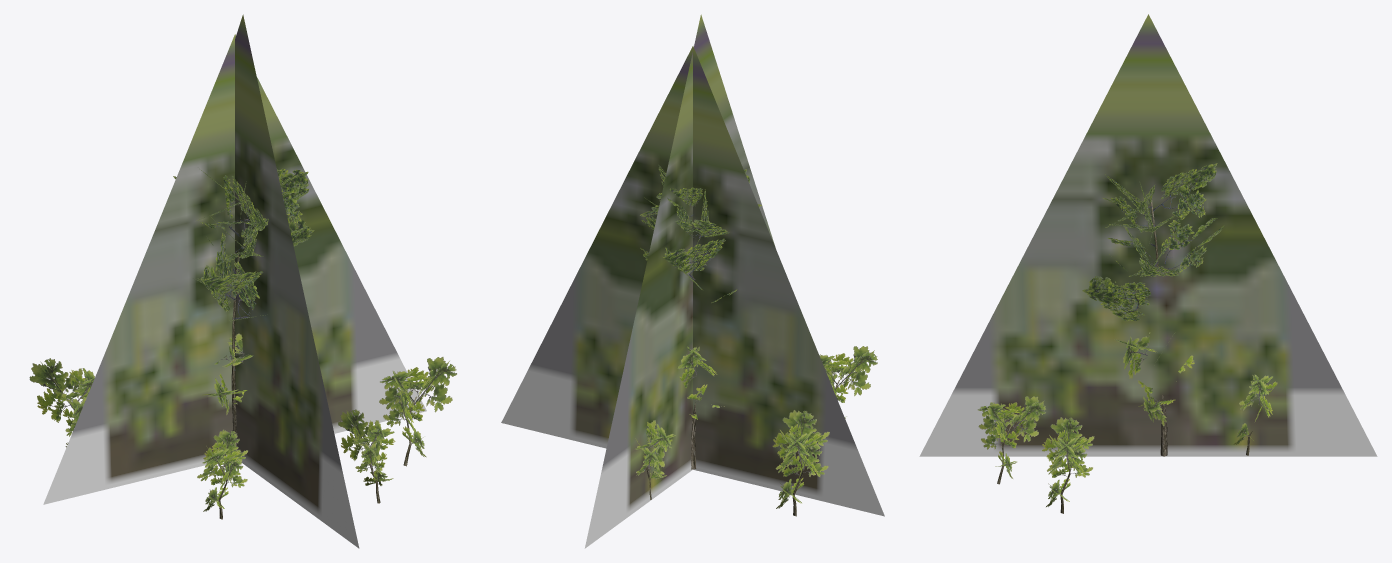
The model's file is Tree-Oak6A.fbx.
3 views of the same model, side by side, from view 1: azimuth 30°, elevation 25°; view 2: azimuth 150°, elevation 25°; view 3: azimuth 270°, elevation 25° (orthographic).
Visible parts, largest first — view 1: Billboard-Oak6A, Tree-Oak6A_LOD0; view 2: Billboard-Oak6A, Tree-Oak6A_LOD0; view 3: Billboard-Oak6A, Tree-Oak6A_LOD0.
Part boxes in pixels (x1,y1,x2,y2): Billboard-Oak6A: (43,14,426,548); Tree-Oak6A_LOD0: (29,168,456,519); Billboard-Oak6A: (501,14,884,548); Tree-Oak6A_LOD0: (635,165,877,516); Billboard-Oak6A: (919,14,1377,456); Tree-Oak6A_LOD0: (977,163,1277,513).
Size of what is drawn, in the model's own units: 1365 by 1528 by 1433.
